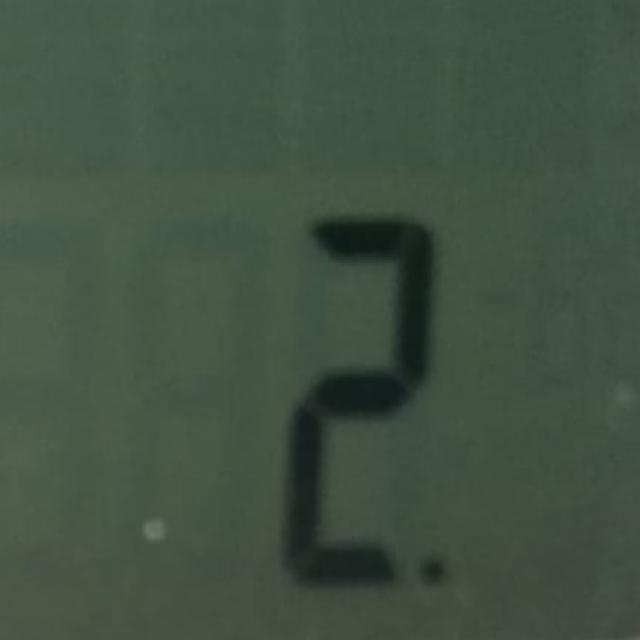.: (414, 551, 454, 588)
2: (260, 211, 436, 604)
